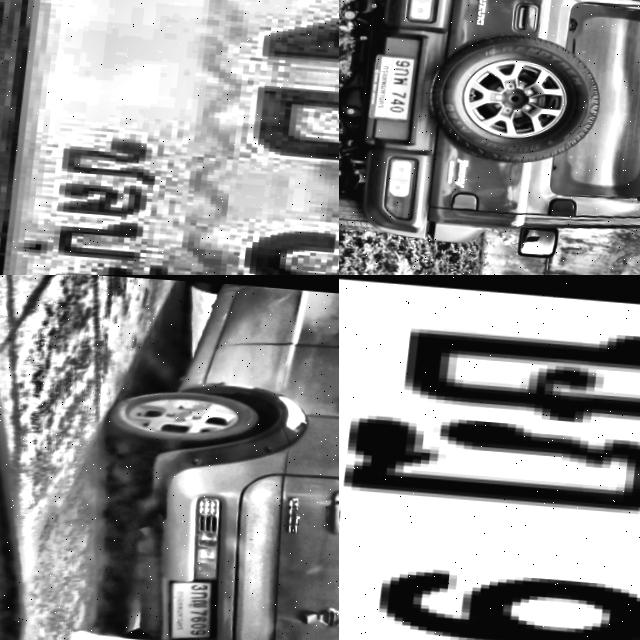license-plate: (339, 275, 640, 640), (0, 0, 339, 275), (165, 574, 226, 640), (370, 50, 424, 118)
